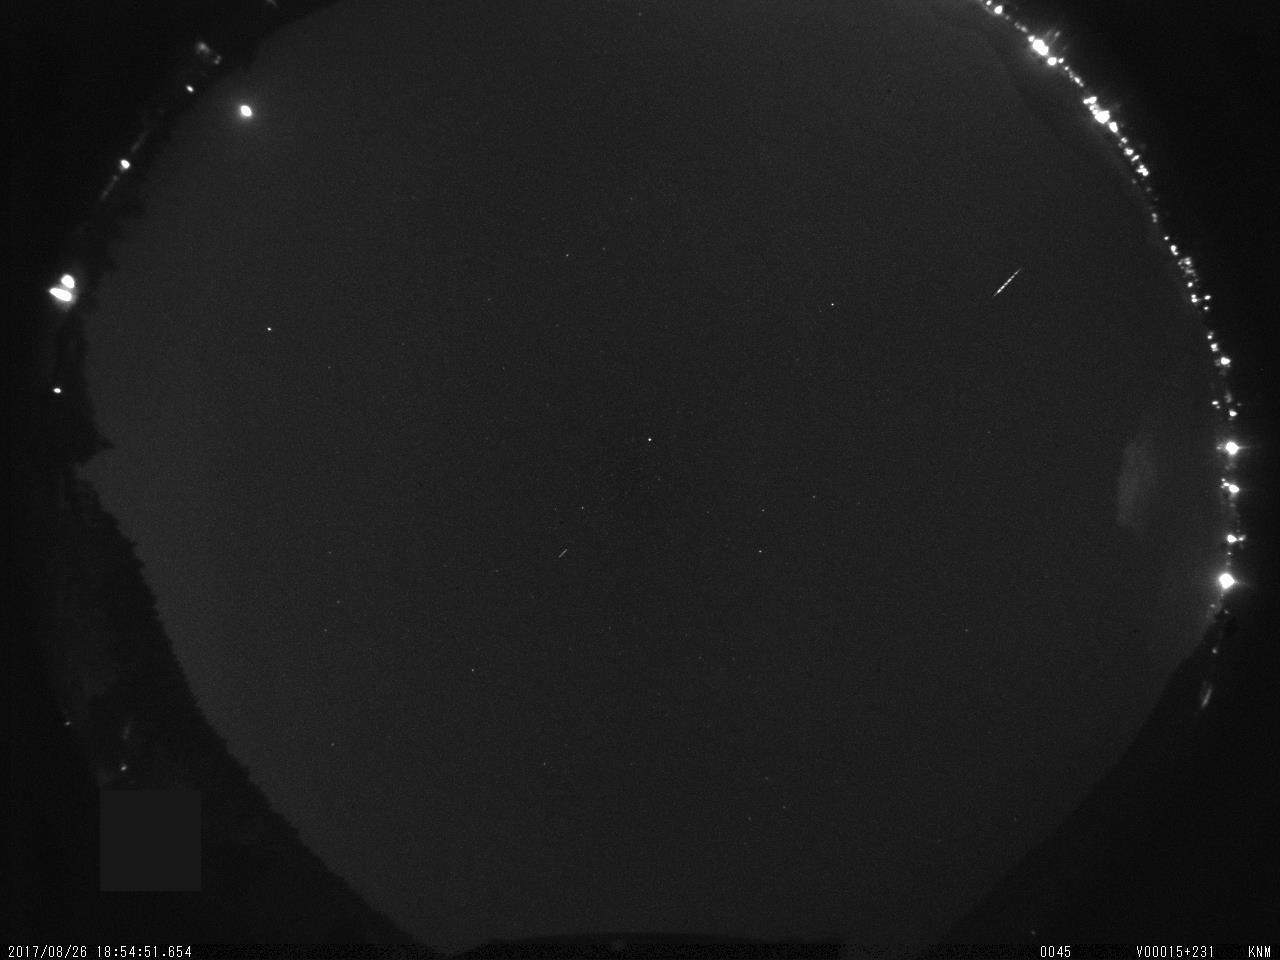Meteor: (989, 264, 1026, 307)
